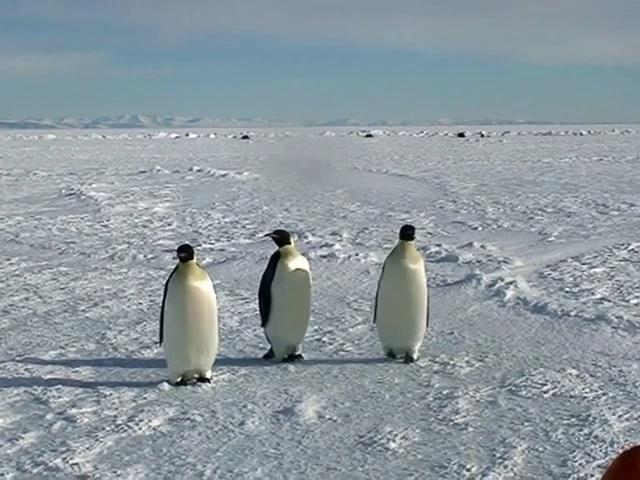animal: (375, 226, 430, 363)
